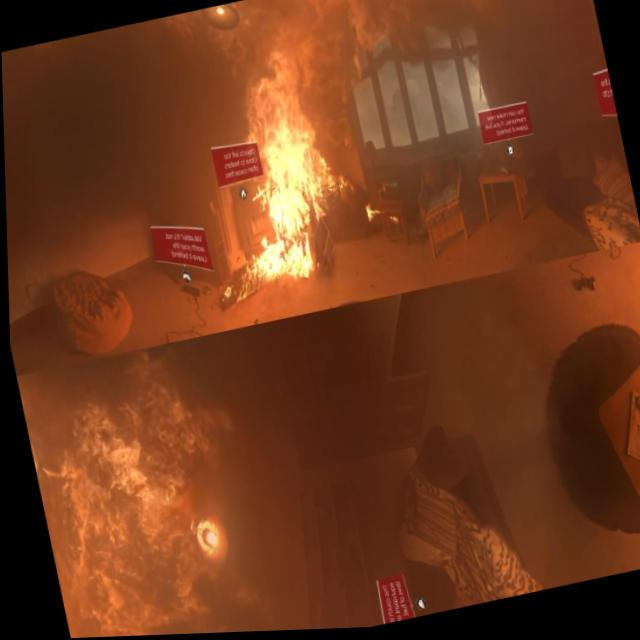fire: (16, 357, 215, 640), (183, 79, 358, 312)
